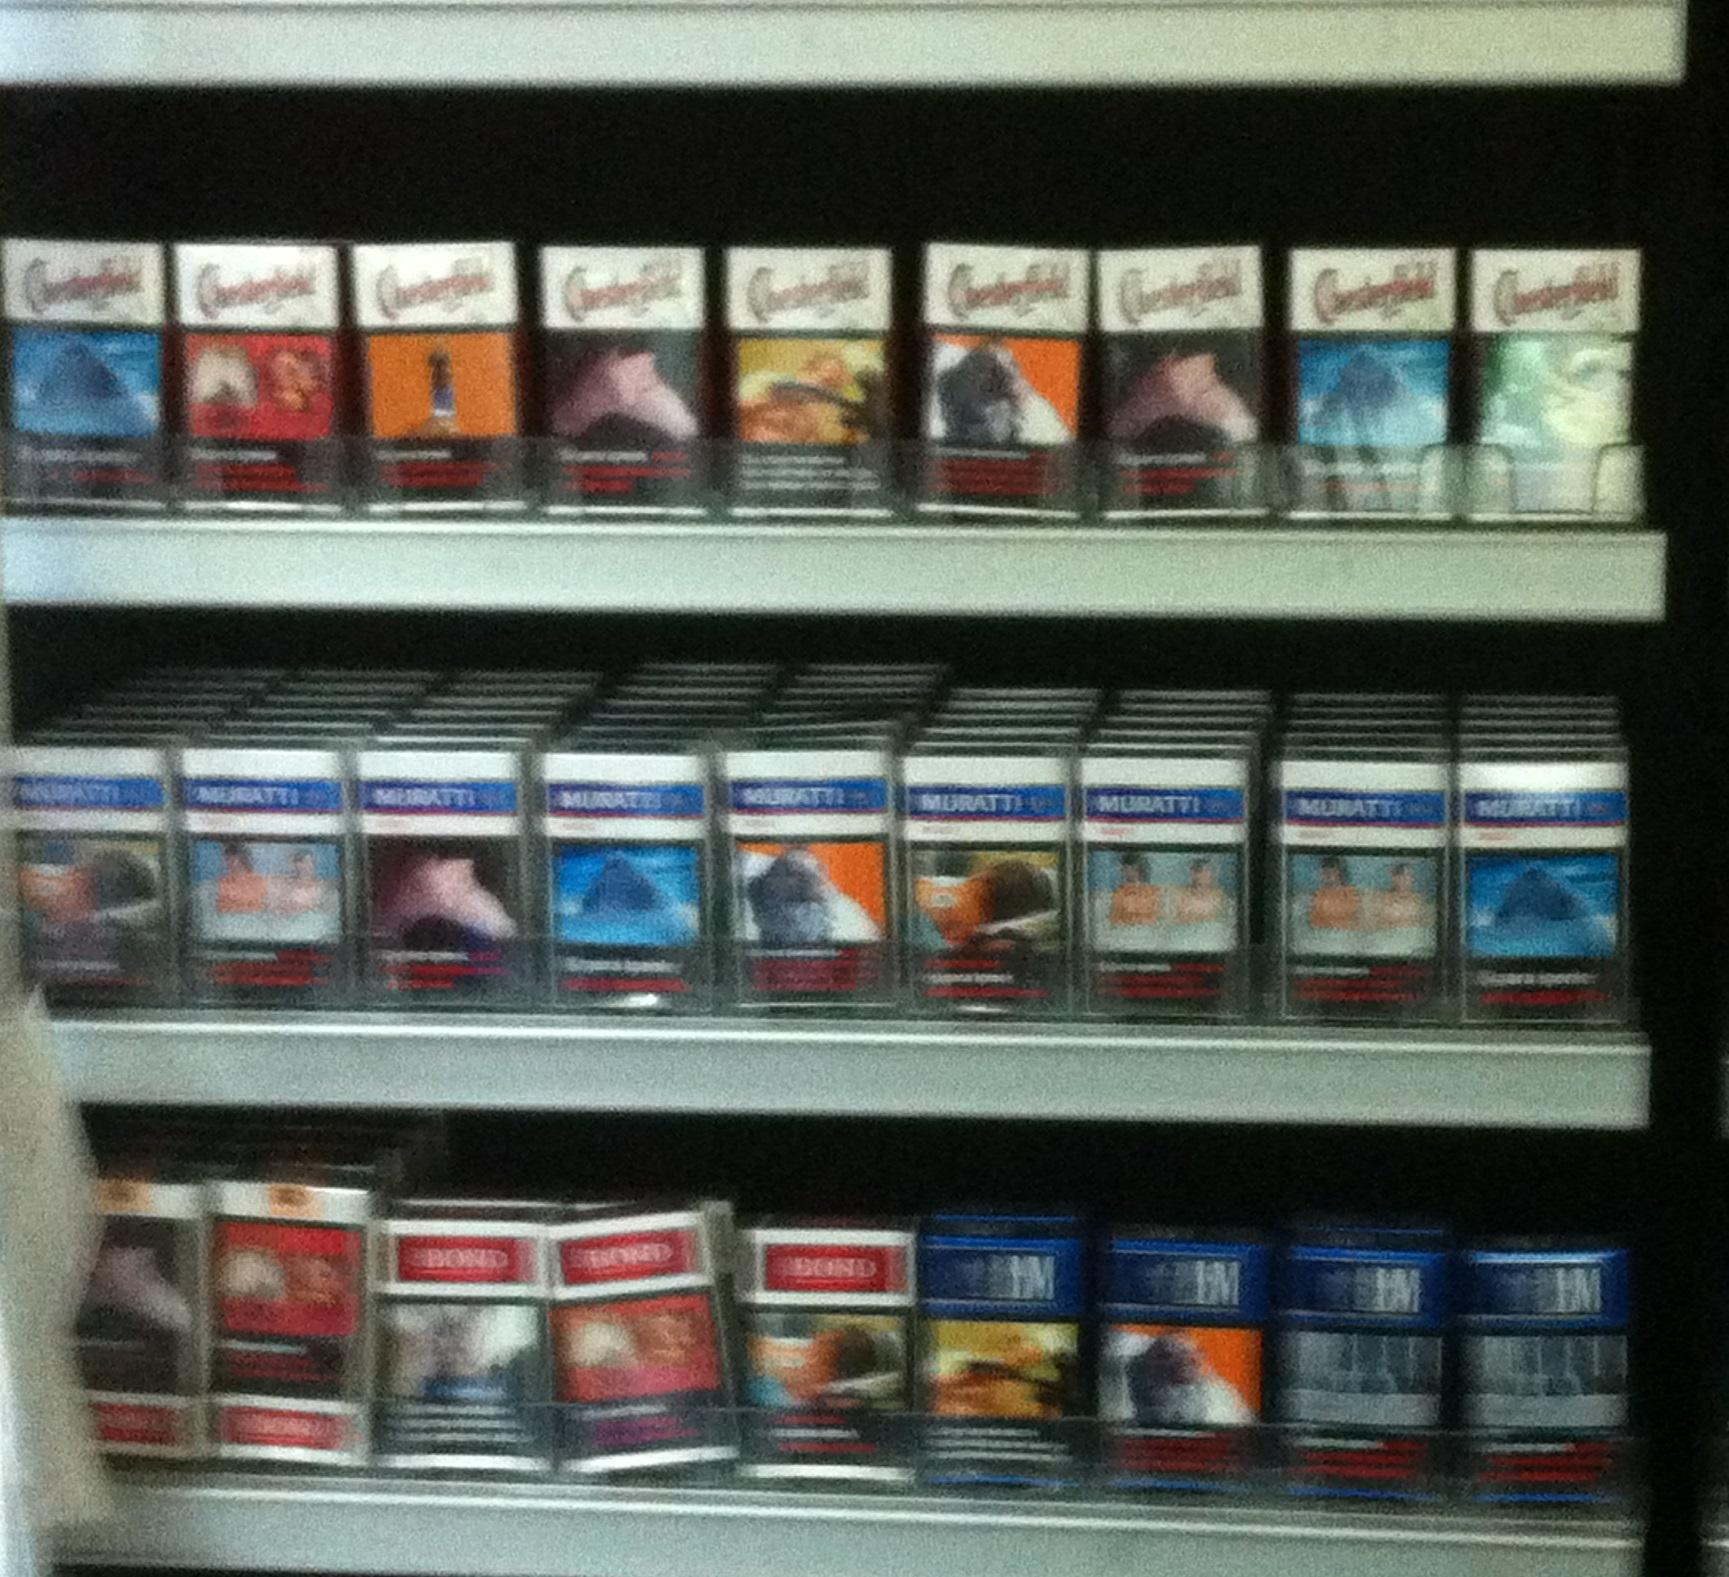product: (197, 1169, 369, 1481), (1249, 1229, 1441, 1505), (541, 1205, 733, 1481), (374, 1200, 565, 1478), (893, 1225, 1084, 1502), (1069, 1234, 1261, 1509), (1429, 1241, 1621, 1517), (733, 1209, 925, 1485), (1069, 749, 1246, 1026), (1289, 236, 1465, 514), (1453, 749, 1630, 1026), (169, 236, 345, 514), (349, 236, 526, 514), (361, 737, 538, 1014), (901, 737, 1077, 1014), (2, 734, 178, 1009), (1096, 241, 1273, 517), (1265, 746, 1441, 1021), (1468, 241, 1645, 517), (169, 729, 345, 1005), (5, 233, 181, 509), (533, 729, 709, 1005), (717, 741, 893, 1017), (729, 246, 905, 521), (922, 236, 1096, 514), (526, 229, 700, 505), (65, 1181, 221, 1449)
